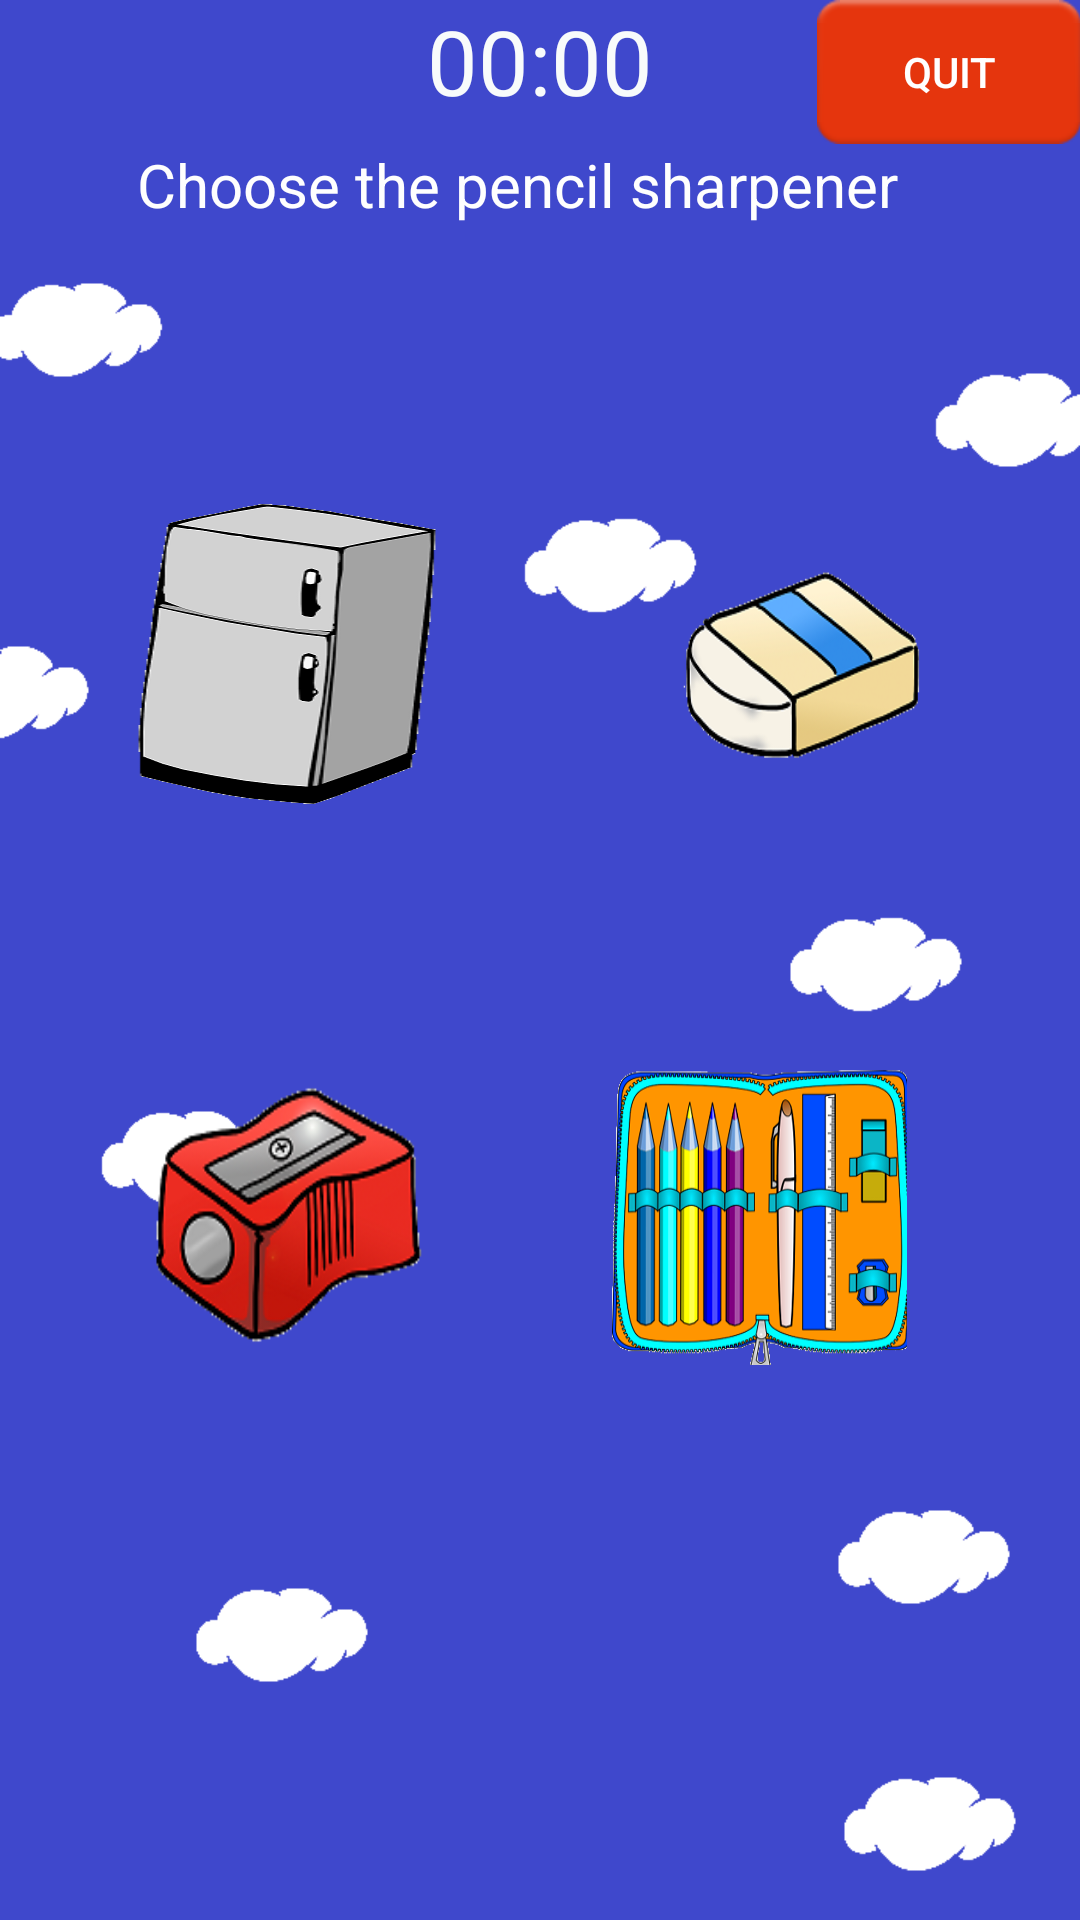

Icons on this 1080x1920 Android screen, each with its box as [x1, y1, x2, y2]:
eraser: [683, 572, 919, 758]
pencil case: [612, 1070, 907, 1365]
pencil sharpener: [137, 1088, 421, 1342]
refrigerator: [138, 504, 436, 804]
